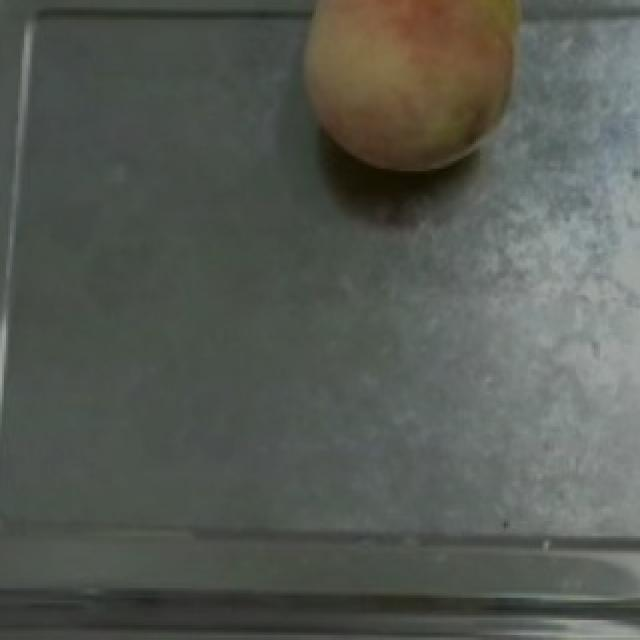Fruit: (288, 0, 540, 181)
